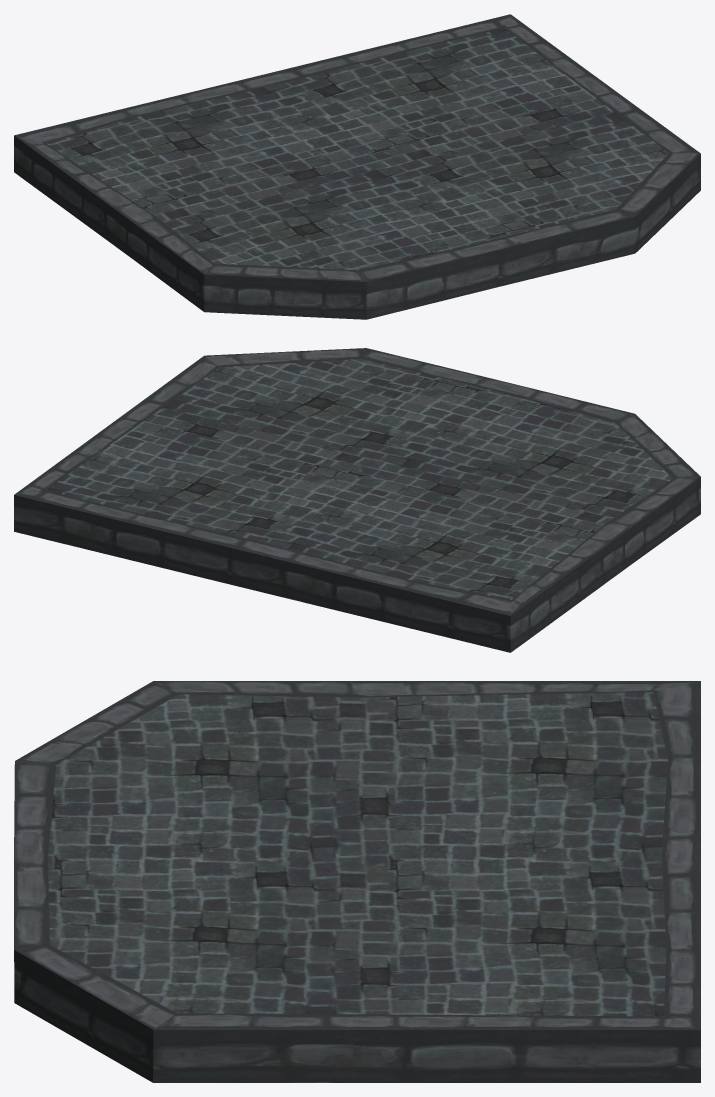
File: terrain_towncenterstone01.fbx
3 renders of one model, top to bottom at view 1: azimuth 30°, elevation 25°; view 2: azimuth 150°, elevation 25°; view 3: azimuth 270°, elevation 25°, orthographic. The views are drawn at different scales.
Visible parts, largest first — view 1: obj1.056; view 2: obj1.056; view 3: obj1.056.
Part boxes in pixels (left/top/right/bottom): obj1.056: left=14, top=14, right=700, bottom=319; obj1.056: left=14, top=348, right=700, bottom=652; obj1.056: left=14, top=681, right=700, bottom=1082.
Bounding box in the file's own units: 9.9 × 0.715 × 8.24.
